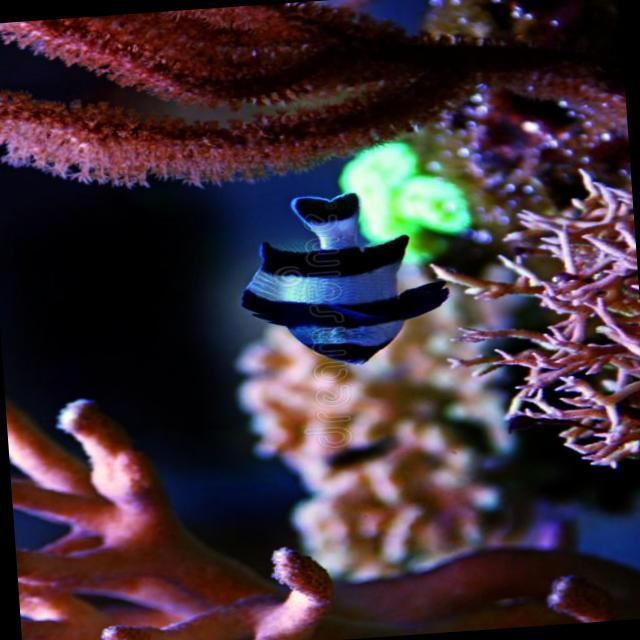ThreeStripedDamselfish: (242, 192, 451, 366)
